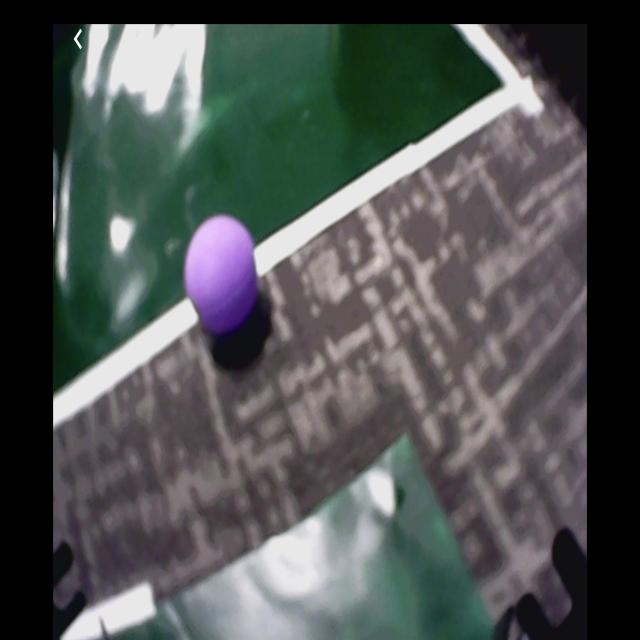ball: (183, 216, 256, 334)
